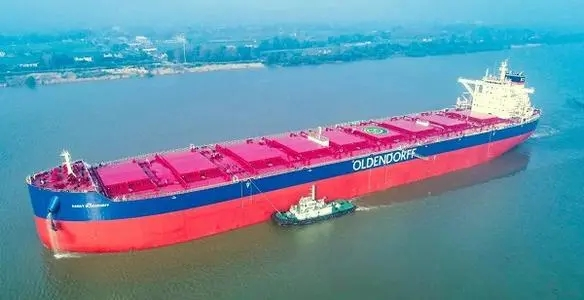Cargoship: (21, 56, 546, 252)
otherboat: (274, 186, 352, 226)
